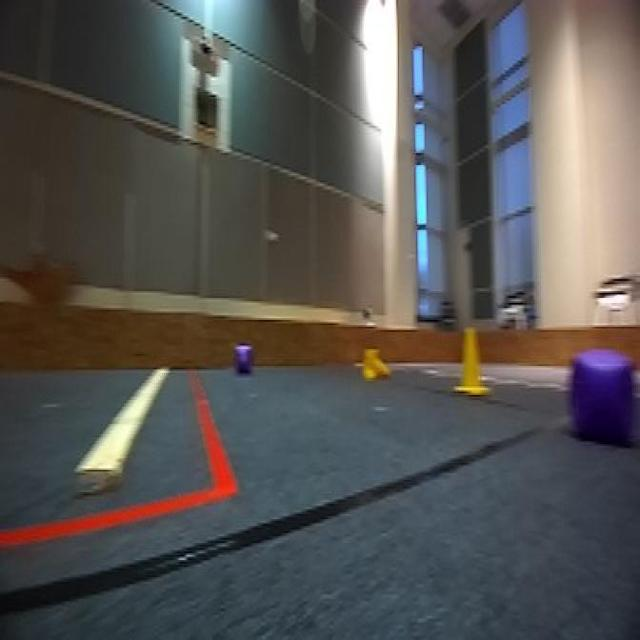frc_cone: (452, 325, 488, 402), (358, 346, 390, 381)
frc_cube: (564, 330, 640, 448), (232, 344, 254, 379)
